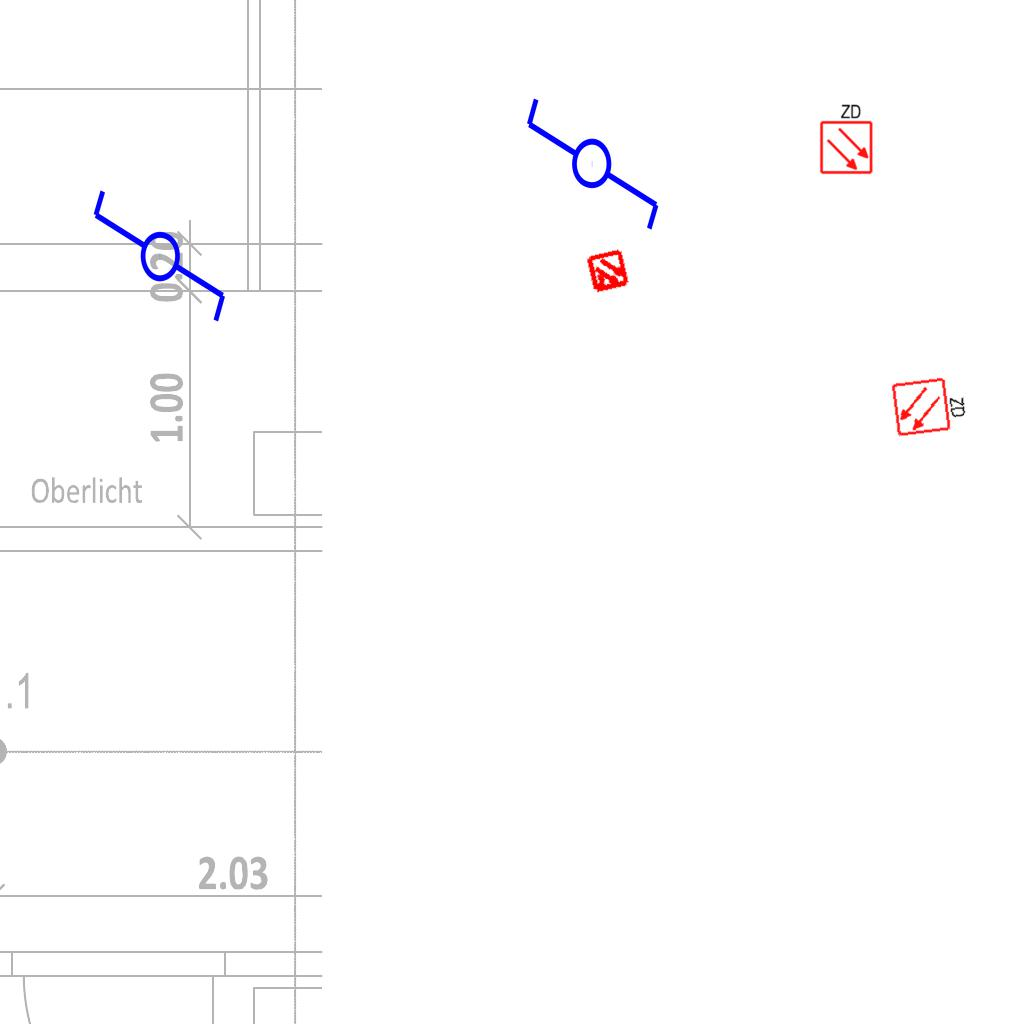OT_Multisensormelder_(Kombination_RMO_WMD): (574, 238, 642, 306)
Wechselschalter: (86, 186, 230, 343), (522, 77, 666, 234)
ZD_Melder_in_Zwischendecke_mit_Revisionsoeffnung_mind_40_x_40_cm: (890, 372, 971, 438), (817, 101, 874, 175)
